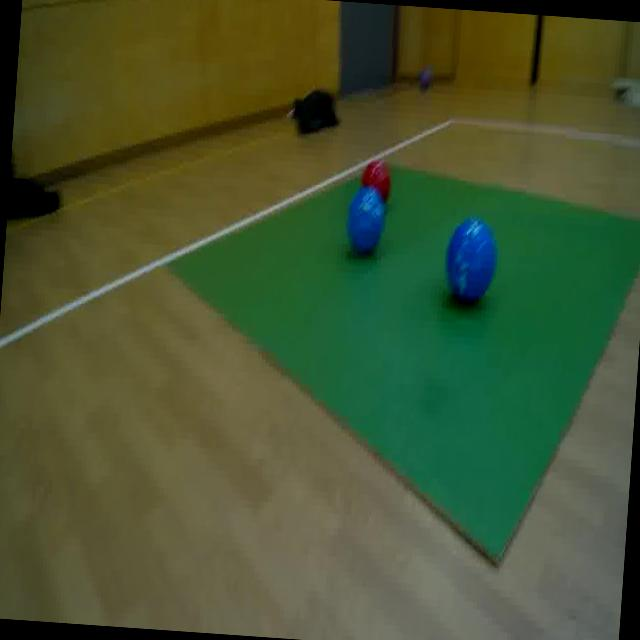blue_ball: (440, 214, 500, 312), (342, 187, 388, 254)
purple_ball: (418, 66, 434, 95)
red_ball: (358, 155, 396, 211)
